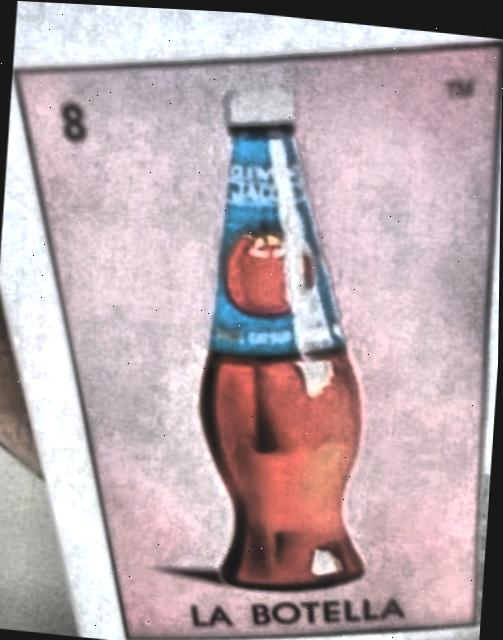La Botella: (13, 36, 499, 639)
